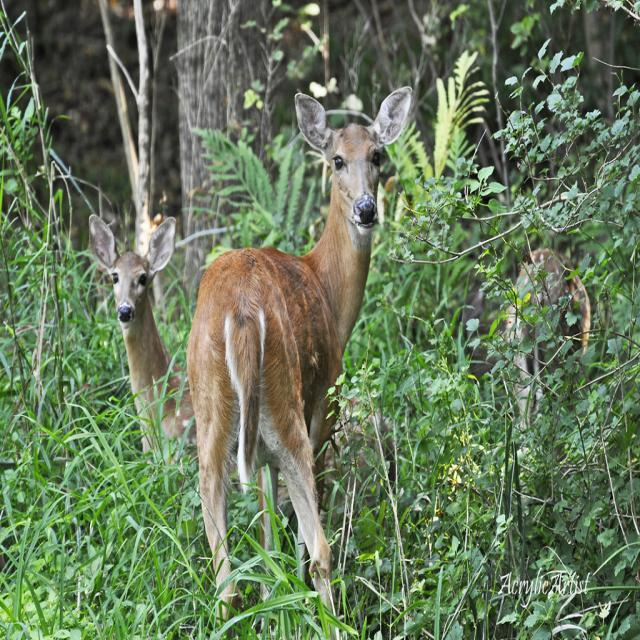Deer: (185, 85, 414, 638), (88, 216, 396, 563), (504, 252, 590, 476)
